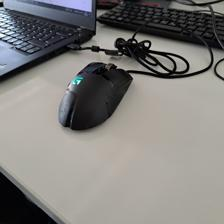mouse: (57, 61, 133, 132)
